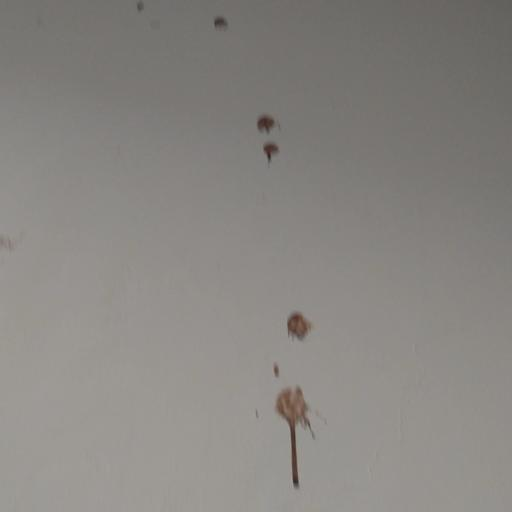stain: (247, 304, 334, 512), (131, 0, 247, 47), (250, 94, 284, 161)
